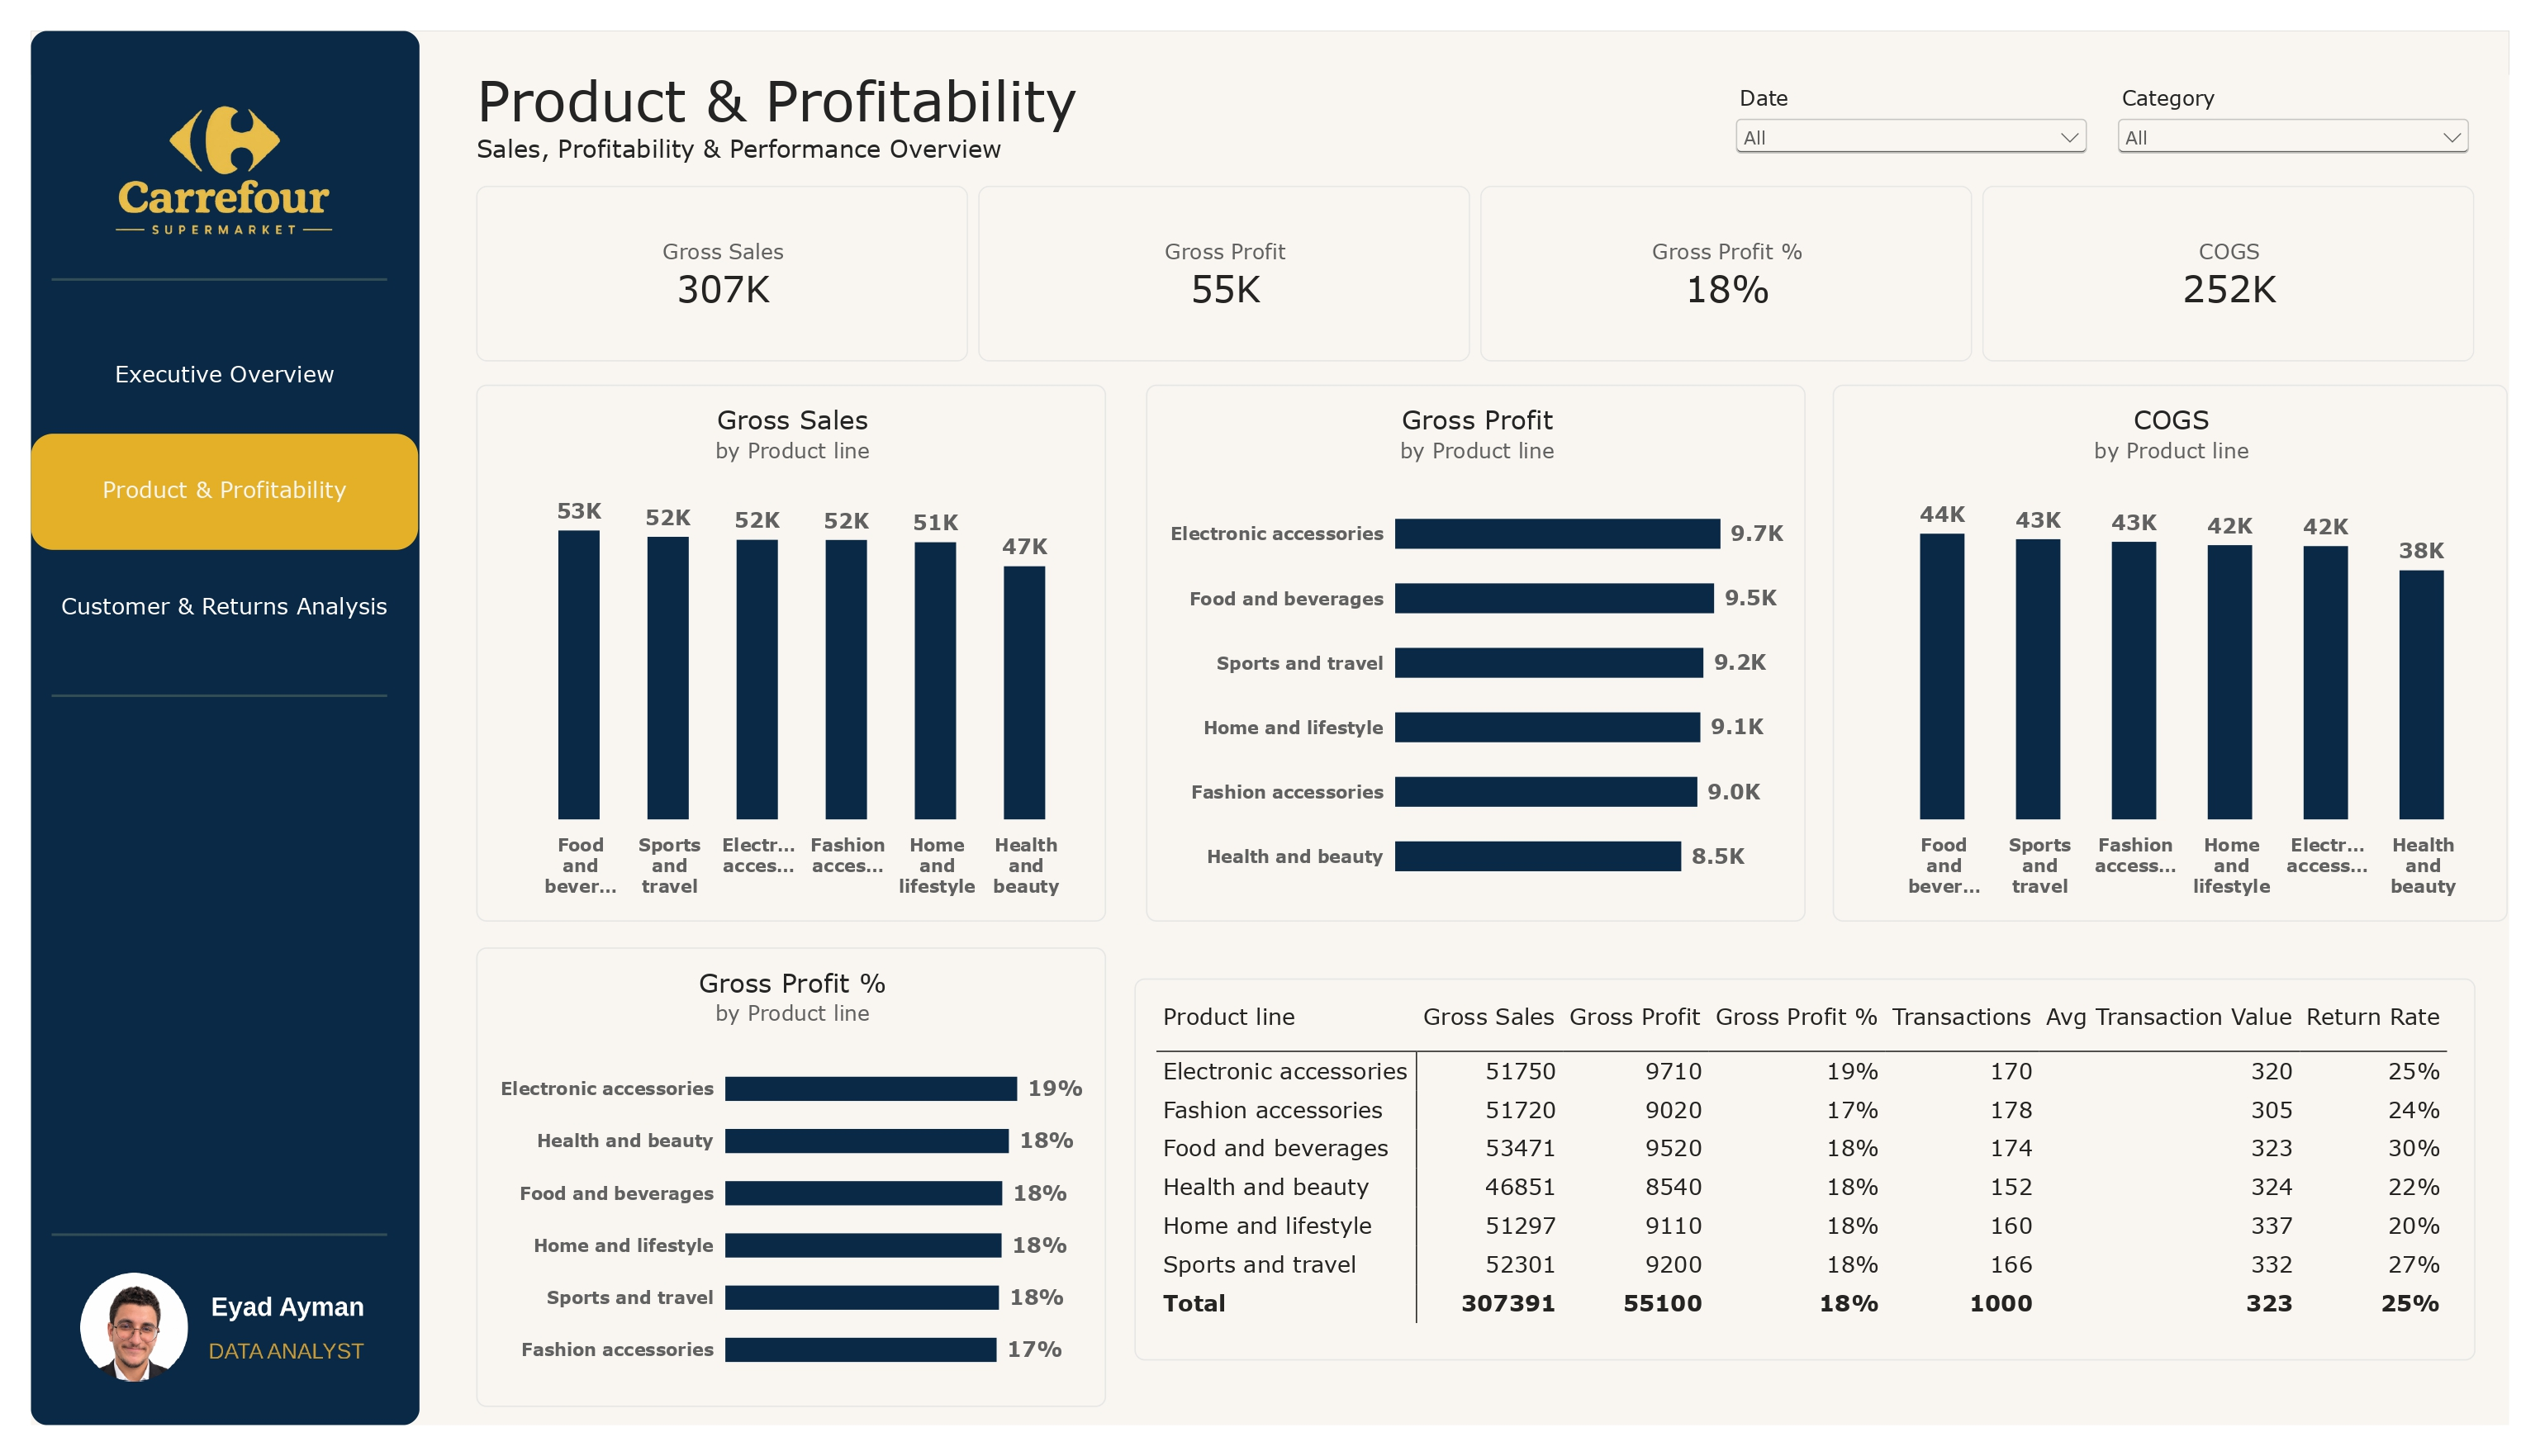

Layout of this report page (visuals, bound fields, positions):
{"tool":"powerbi","page":{"name":"Product & Profitability","canvas":[1920,1080],"ordinal":1},"visuals":[{"type":"textbox","box":[345,27.2,602.8,92.6],"z":1000},{"type":"slicer","fields":{"Values":["SuperMarket_Sales.Product line"]},"box":[1612.4,41.8,281.4,67.2],"z":3000},{"type":"cardVisual","fields":{"Data":["SuperMarket_Sales.Gross Sales","SuperMarket_Sales.Gross Profit","SuperMarket_Sales.Gross Profit %","SuperMarket_Sales.COGS"]},"box":[345,119.8,1548.8,136.2],"z":6000},{"type":"columnChart","fields":{"Category":["SuperMarket_Sales.Product line"],"Y":["SuperMarket_Sales.Gross Sales"]},"box":[345,274.2,488.4,415.8],"z":7000},{"type":"barChart","fields":{"Category":["SuperMarket_Sales.Product line"],"Y":["SuperMarket_Sales.Gross Profit"]},"box":[864.3,274.2,510.2,415.8],"z":8000},{"type":"columnChart","fields":{"Category":["SuperMarket_Sales.Product line"],"Y":["SuperMarket_Sales.COGS"]},"box":[1396.3,274.2,522.9,415.8],"z":9000},{"type":"barChart","fields":{"Category":["SuperMarket_Sales.Product line"],"Y":["SuperMarket_Sales.Gross Profit %"]},"box":[345,710,488.4,355.9],"z":10000},{"type":"pivotTable","fields":{"Rows":["SuperMarket_Sales.Product line"],"Values":["SuperMarket_Sales.Gross Sales","SuperMarket_Sales.Gross Profit","SuperMarket_Sales.Gross Profit %","SuperMarket_Sales.Total Transactions","SuperMarket_Sales.Average Transaction Value","Data2.Return Rate"]},"box":[855.2,733.6,1038.6,296],"z":11000},{"type":"shape","box":[0,0,301.4,1080.4],"z":11001},{"type":"pageNavigator","box":[0,221.5,300,272],"z":11002},{"type":"image","box":[0,27.2,301.4,163.4],"z":11003},{"type":"shape","box":[16.3,121.7,259.7,141.6],"z":11004},{"type":"shape","box":[16.3,493.9,259.7,41.8],"z":11005},{"type":"shape","box":[16.3,911.5,259.7,41.8],"z":11006},{"type":"image","box":[38.1,953.3,219.7,101.7],"z":11007},{"type":"slicer","fields":{"Values":["SuperMarket_Sales.Date.Variation.Date Hierarchy.Month"]},"box":[1316.4,41.8,281.4,67.2],"z":11008}]}

Visuals, with their boxes on the page's 1920x1080 design canvas (x1, y1, x2, y2). These are canvas units, not pixel positions in the 2540x1456 screenshot, which may show the page scaled, cropped or inside an application window:
textbox: rect(345, 27, 948, 120)
slicer - SuperMarket_Sales.Product line: rect(1612, 42, 1894, 109)
cardVisual - SuperMarket_Sales.Gross Sales x SuperMarket_Sales.Gross Profit: rect(345, 120, 1894, 256)
columnChart - SuperMarket_Sales.Product line x SuperMarket_Sales.Gross Sales: rect(345, 274, 833, 690)
barChart - SuperMarket_Sales.Product line x SuperMarket_Sales.Gross Profit: rect(864, 274, 1374, 690)
columnChart - SuperMarket_Sales.Product line x SuperMarket_Sales.COGS: rect(1396, 274, 1919, 690)
barChart - SuperMarket_Sales.Product line x SuperMarket_Sales.Gross Profit %: rect(345, 710, 833, 1066)
pivotTable - SuperMarket_Sales.Product line x SuperMarket_Sales.Gross Sales: rect(855, 734, 1894, 1030)
shape: rect(0, 0, 301, 1080)
pageNavigator: rect(0, 222, 300, 494)
image: rect(0, 27, 301, 191)
shape: rect(16, 122, 276, 263)
shape: rect(16, 494, 276, 536)
shape: rect(16, 912, 276, 953)
image: rect(38, 953, 258, 1055)
slicer - SuperMarket_Sales.Date.Variation.Date Hierarchy.Month: rect(1316, 42, 1598, 109)
